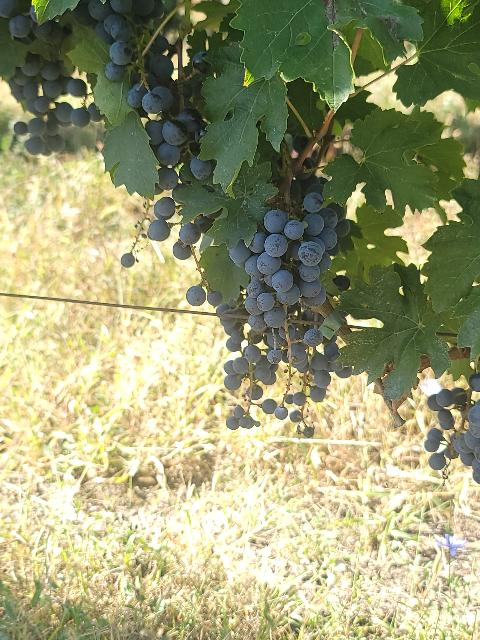grapes: (229, 192, 338, 332), (9, 51, 72, 155), (145, 108, 212, 191), (156, 96, 160, 100)
